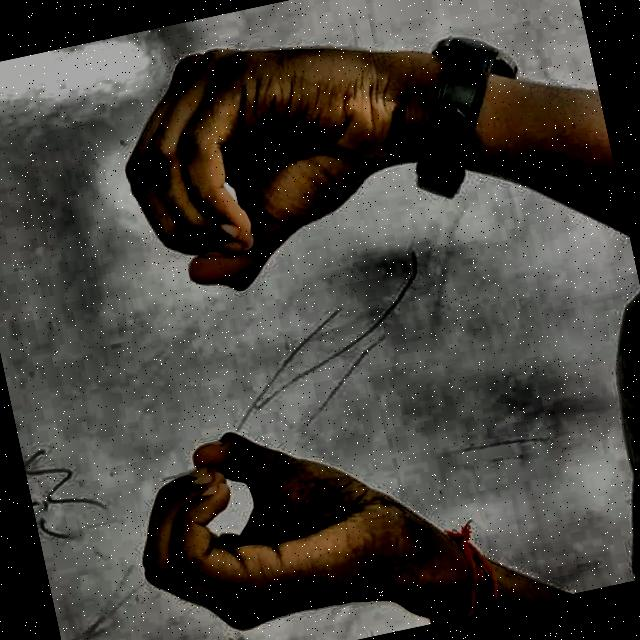Bisharga: (20, 0, 522, 640)
